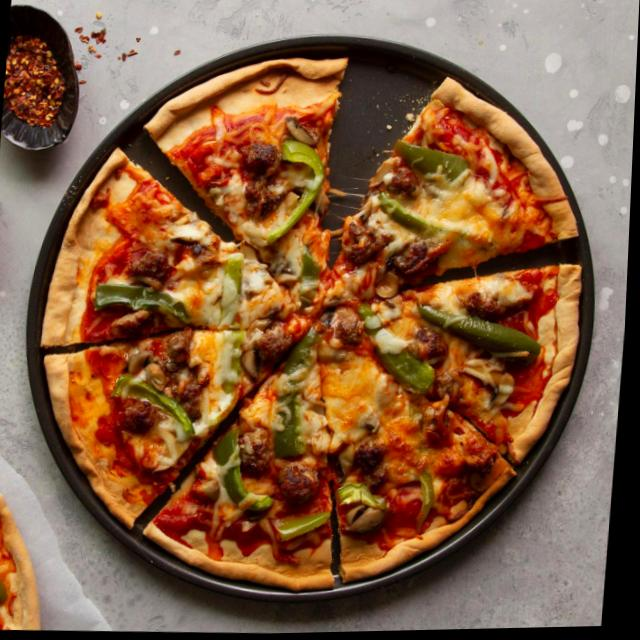pizza: (22, 31, 610, 609), (0, 450, 63, 631)
